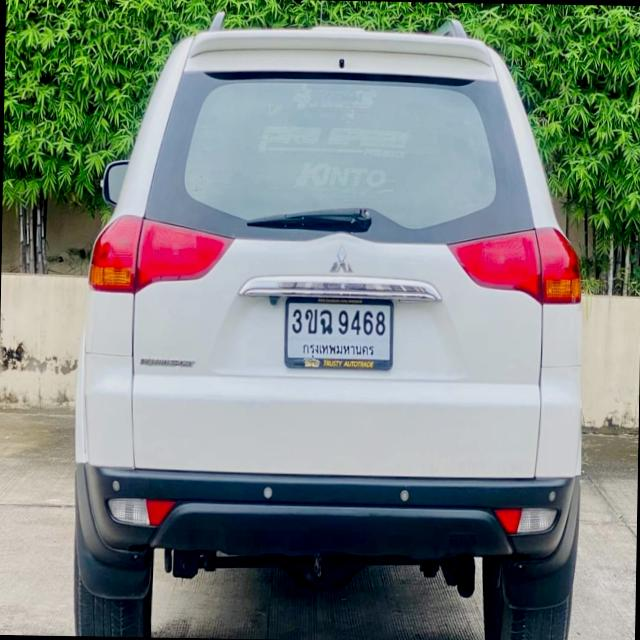license_plate: (283, 296, 396, 372)
